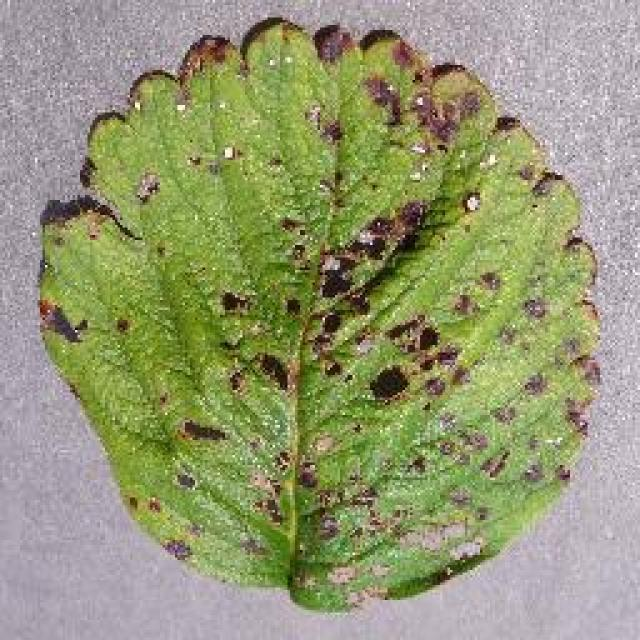Strawberry leaf scorch: (137, 30, 513, 508)
